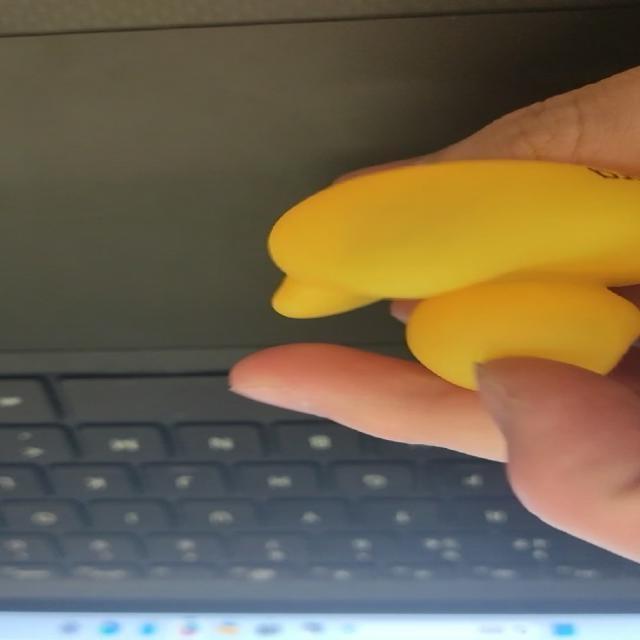rubber-duck: (267, 159, 638, 387)
